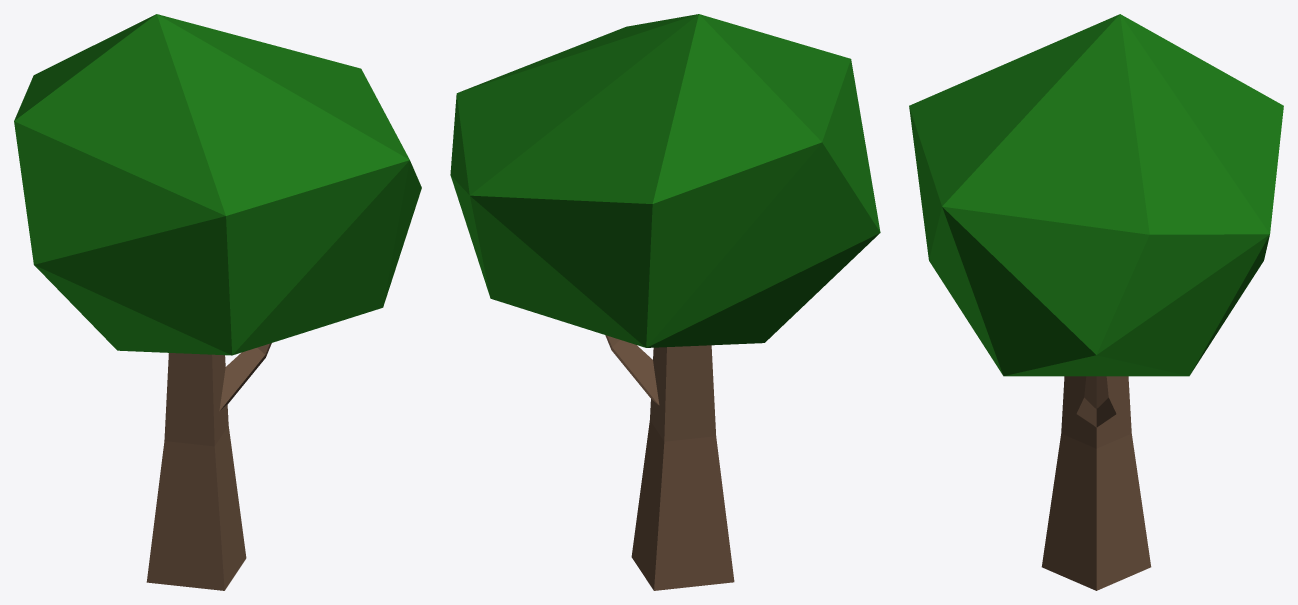
The model's file is City_Tree.fbx.
3 renders of one model, left to right at view 1: azimuth 30°, elevation 25°; view 2: azimuth 150°, elevation 25°; view 3: azimuth 270°, elevation 25°, orthographic. The views are drawn at different scales.
Visible parts, largest first — view 1: Cube; view 2: Cube; view 3: Cube.
Part boxes in pixels (box(x1,y1,x2,y2)): Cube: box(14, 14, 421, 590); Cube: box(450, 14, 880, 590); Cube: box(909, 14, 1283, 590).
Size of the model in its own units: 254 by 307 by 404.
